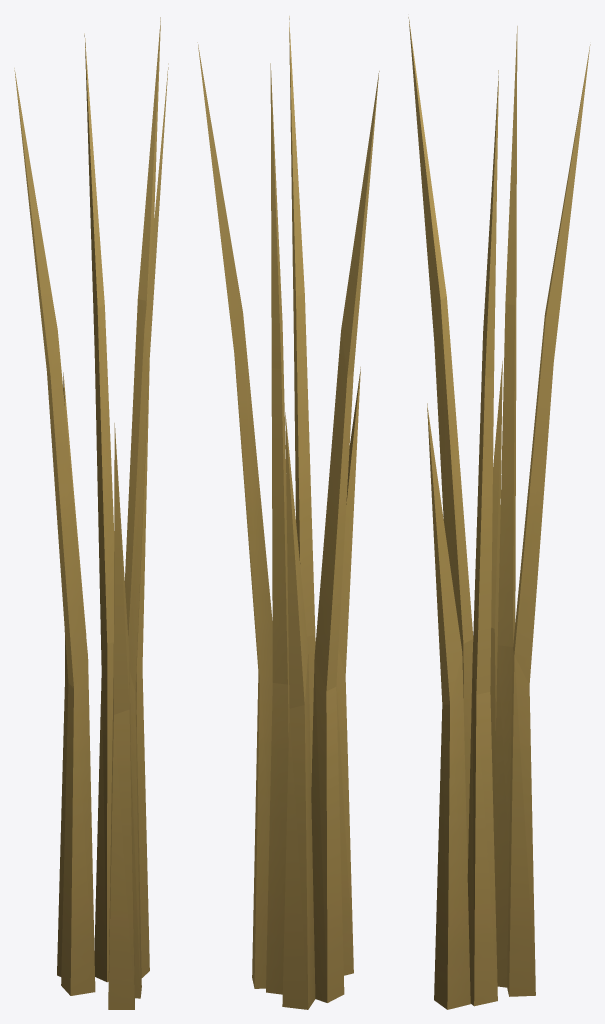
File: grass_reed.glb
3 renders of one model, left to right at view 1: azimuth 30°, elevation 25°; view 2: azimuth 150°, elevation 25°; view 3: azimuth 330°, elevation 25°, orthographic.
Visible parts, largest first — view 1: grass_reed; view 2: grass_reed; view 3: grass_reed.
Boxes of the visible parts, x1,y1,x2,y2 form: grass_reed: [14, 17, 168, 1009]; grass_reed: [197, 16, 379, 1009]; grass_reed: [408, 17, 590, 1009].
Size of the model in its own units: 0.1465 by 0.8 by 0.098.
1 material, 1 textured.
